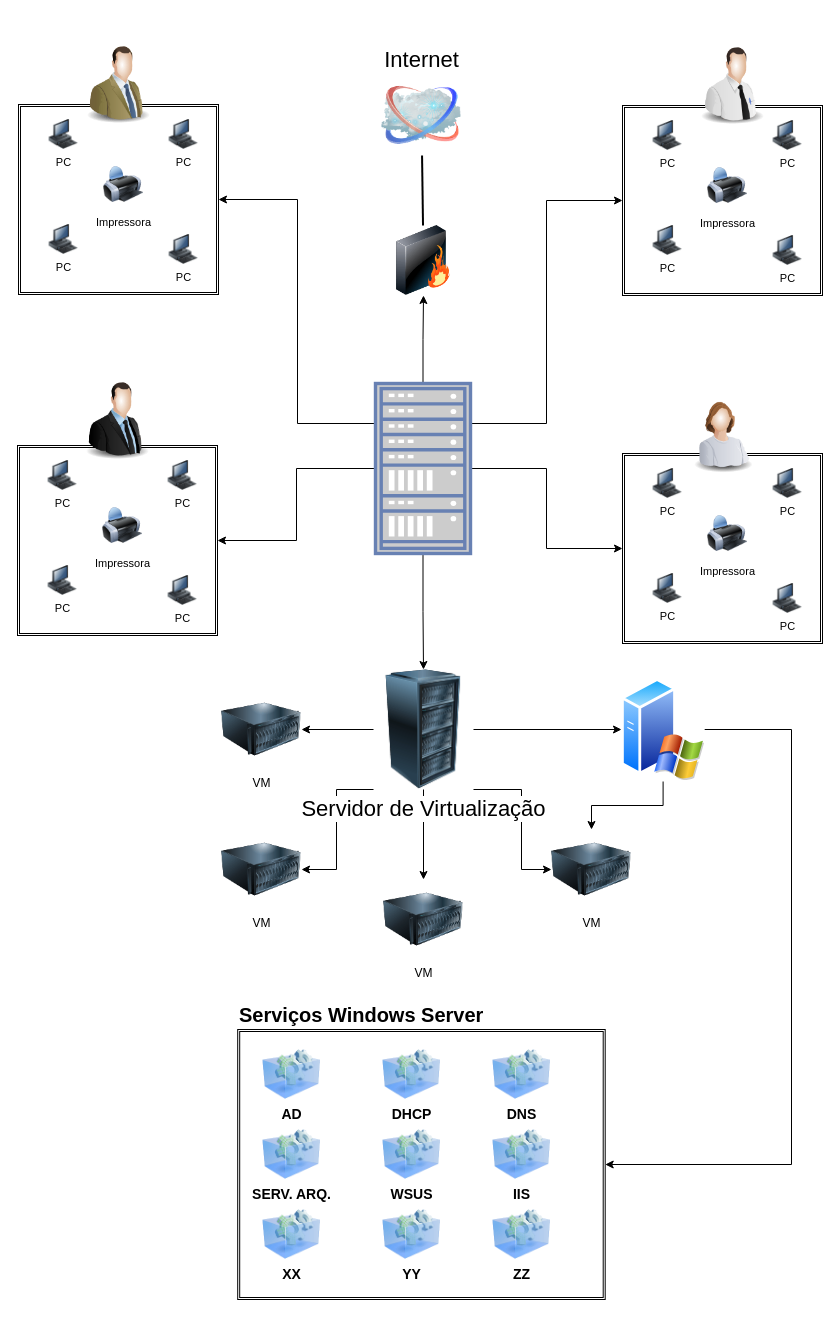
This 840x1317 diagram has some shape labels left out. The shapes that lost their labels are listed below. From the top down, each one's centre as x and y in pixels, then its label:
the point at 118,84: Diretores
the point at 732,85: Financeiro
the point at 423,260: Firewall
the point at 117,420: Patrimônio
the point at 722,433: RH
the point at 422,468: Rack Distribuição
the point at 662,729: SERVERDC01 IP: 192.168.1.10
